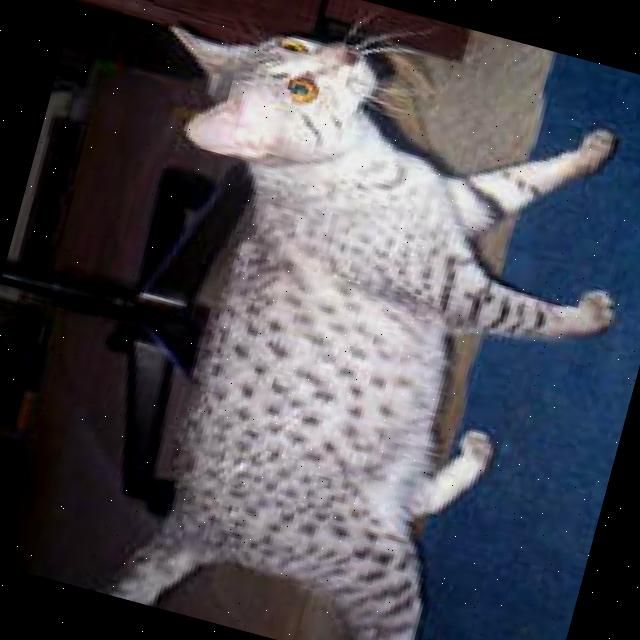Egyptian Mau: (18, 0, 640, 640)
